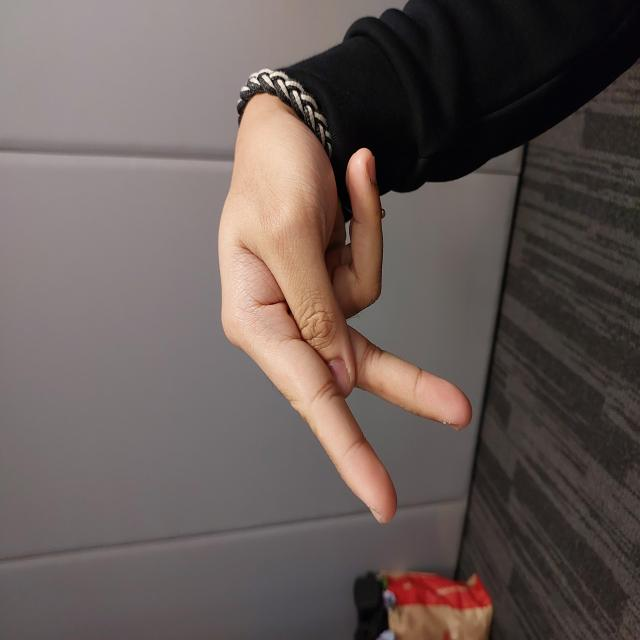P: (115, 216, 542, 474)
